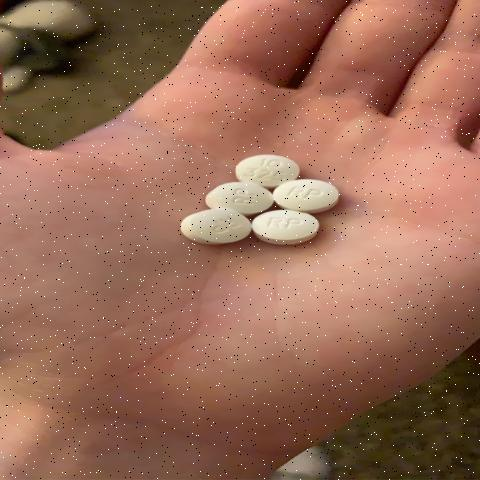hands: (178, 205, 250, 253), (271, 174, 350, 212), (204, 176, 271, 214), (253, 210, 324, 244), (236, 154, 305, 187)
